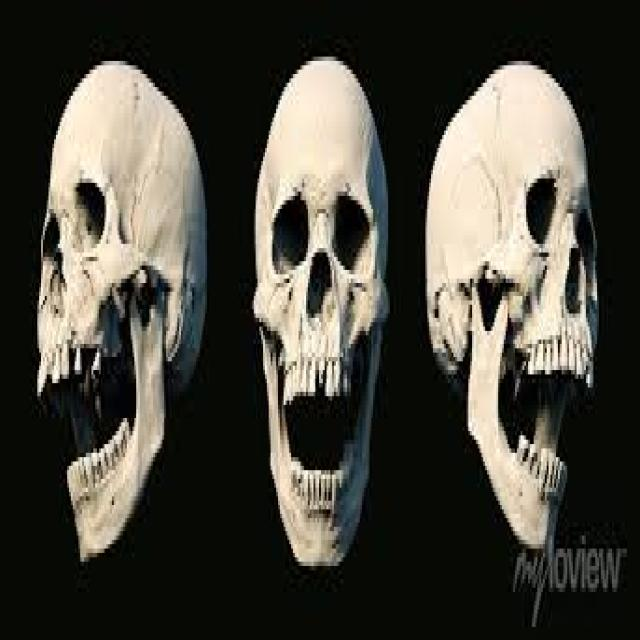skull: (422, 48, 614, 565)
